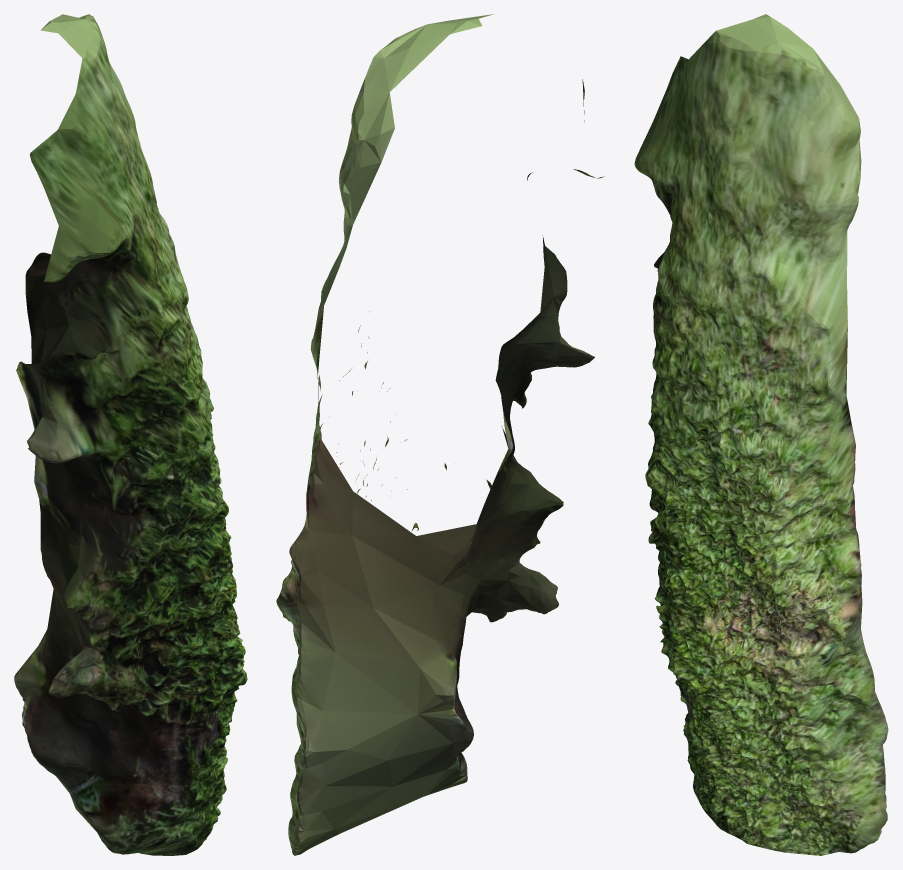
File: Tronco_musgos_27_04_2024.glb
The picture shows the model from 3 angles, left to right: view 1: azimuth 30°, elevation 25°; view 2: azimuth 150°, elevation 25°; view 3: azimuth 270°, elevation 25°; orthographic projection. The views are drawn at different scales.
Bounding box in the file's own units: 0.6094 × 2.09 × 0.6157.
Materials: 1 (1 with a texture image).
